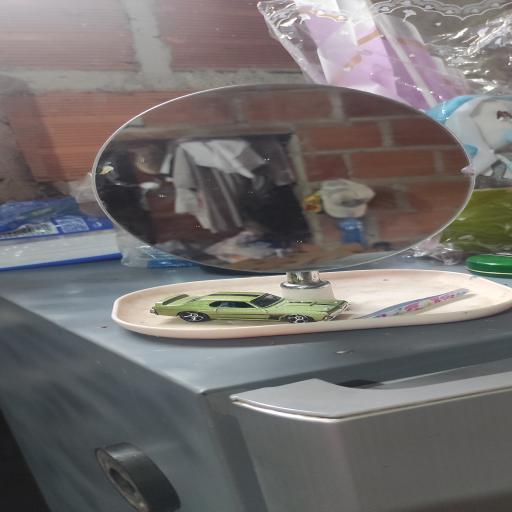Carrito: (150, 291, 347, 324)
